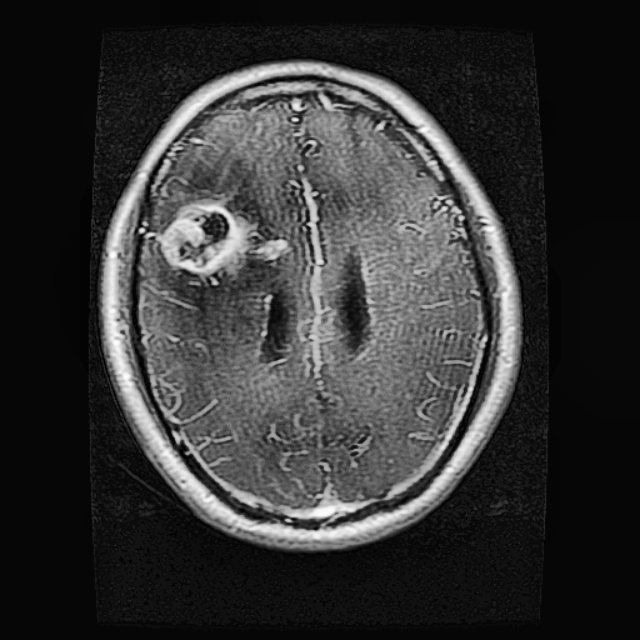Pituitary: (147, 175, 290, 294)
